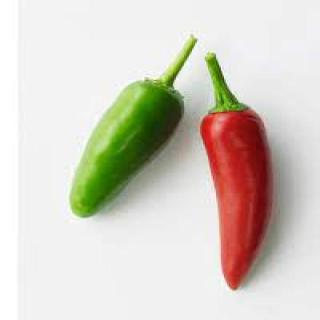Cabai Hijau: (68, 39, 197, 221)
Cabai Merah: (199, 53, 268, 293)
